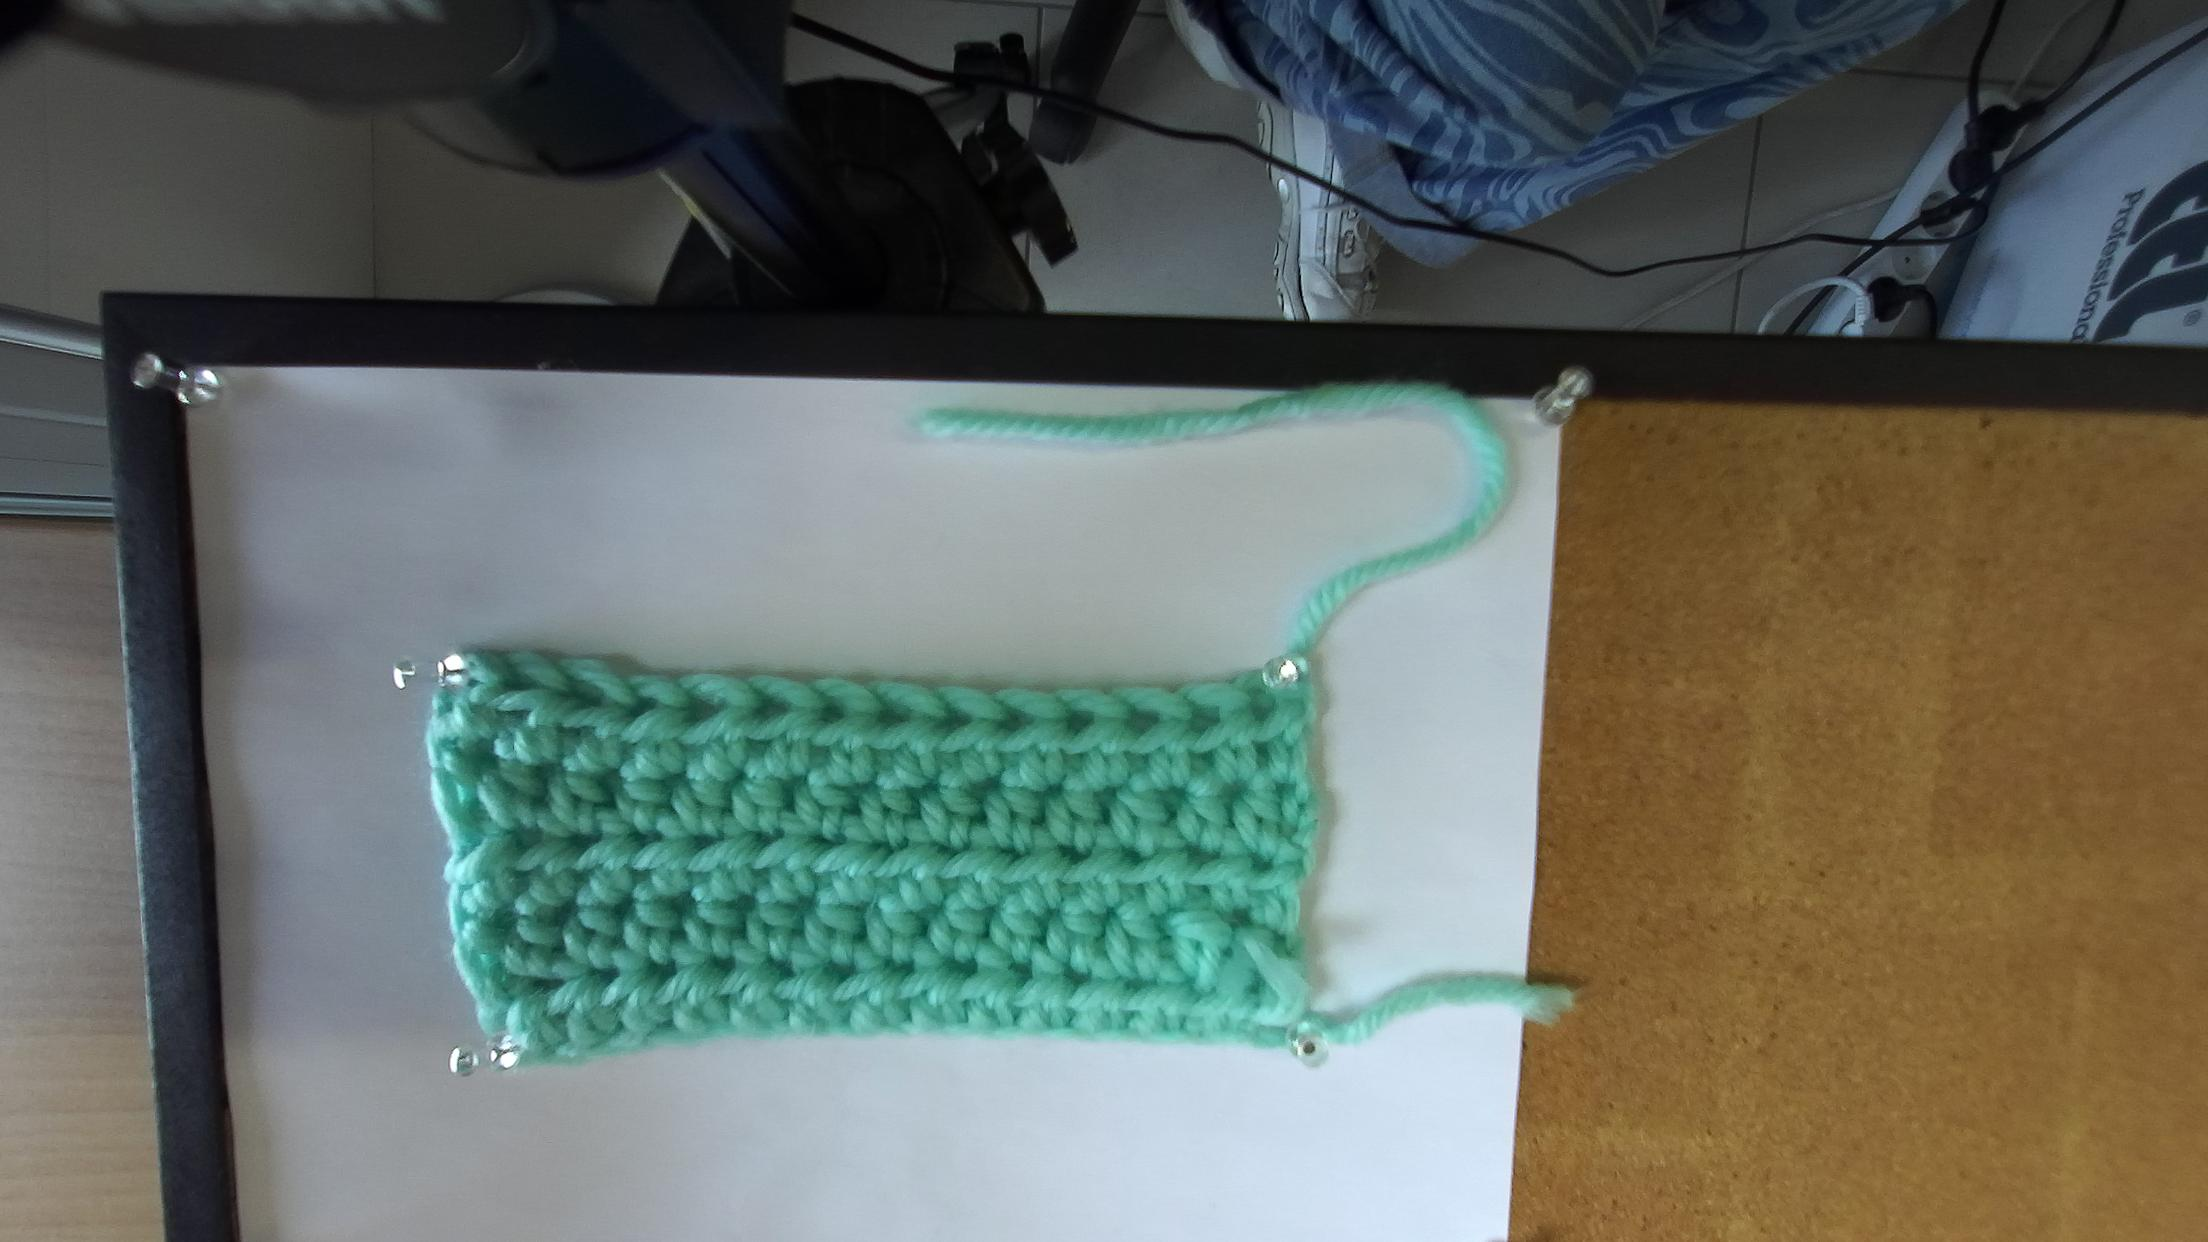hole: (995, 710, 1036, 732), (566, 679, 604, 704), (685, 695, 719, 719), (500, 667, 535, 688), (1127, 711, 1157, 732), (1063, 713, 1096, 731), (877, 704, 907, 723), (943, 710, 974, 729), (757, 702, 790, 717), (1187, 710, 1218, 726), (632, 698, 655, 716), (823, 701, 846, 719), (1251, 698, 1272, 716)
swatch: (420, 654, 1319, 1077)
